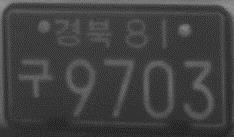0: (140, 58, 176, 120)
1: (159, 17, 170, 52)
3: (182, 58, 215, 121)
7: (101, 57, 136, 119)
8: (123, 16, 148, 49)
9: (64, 56, 97, 121)
경북_O: (53, 16, 112, 49)
구: (16, 56, 53, 98)
